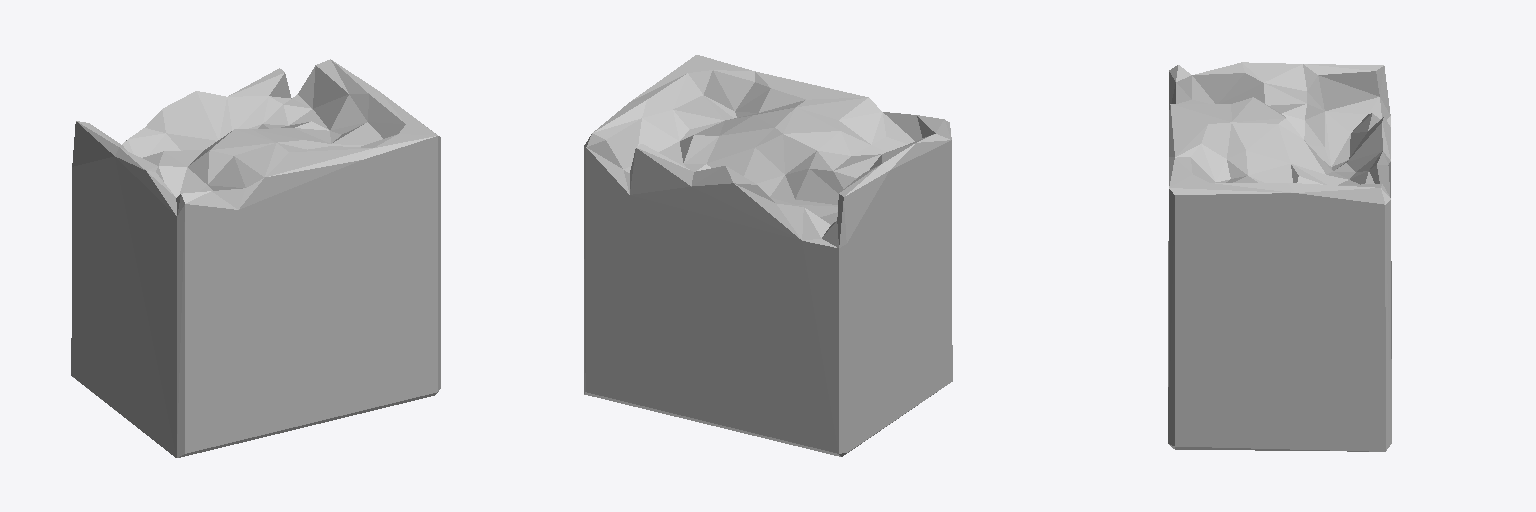
3 renders of one model, left to right at view 1: azimuth 30°, elevation 25°; view 2: azimuth 150°, elevation 25°; view 3: azimuth 270°, elevation 25°, orthographic.
Visible parts, largest first — view 1: Liquid_Domain; view 2: Liquid_Domain; view 3: Liquid_Domain.
Boxes of the visible parts, box(x1,y1,x2,y2) form: Liquid_Domain: box(71, 59, 440, 457); Liquid_Domain: box(584, 55, 952, 456); Liquid_Domain: box(1168, 62, 1391, 451).
Bounding box in the file's own units: 16.97 × 16.21 × 12.43.